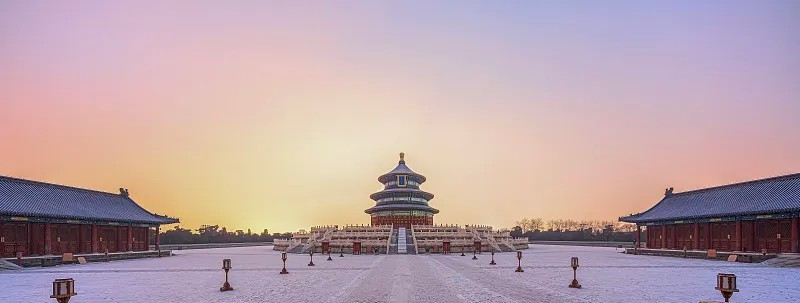Heaven: (364, 151, 439, 227)
